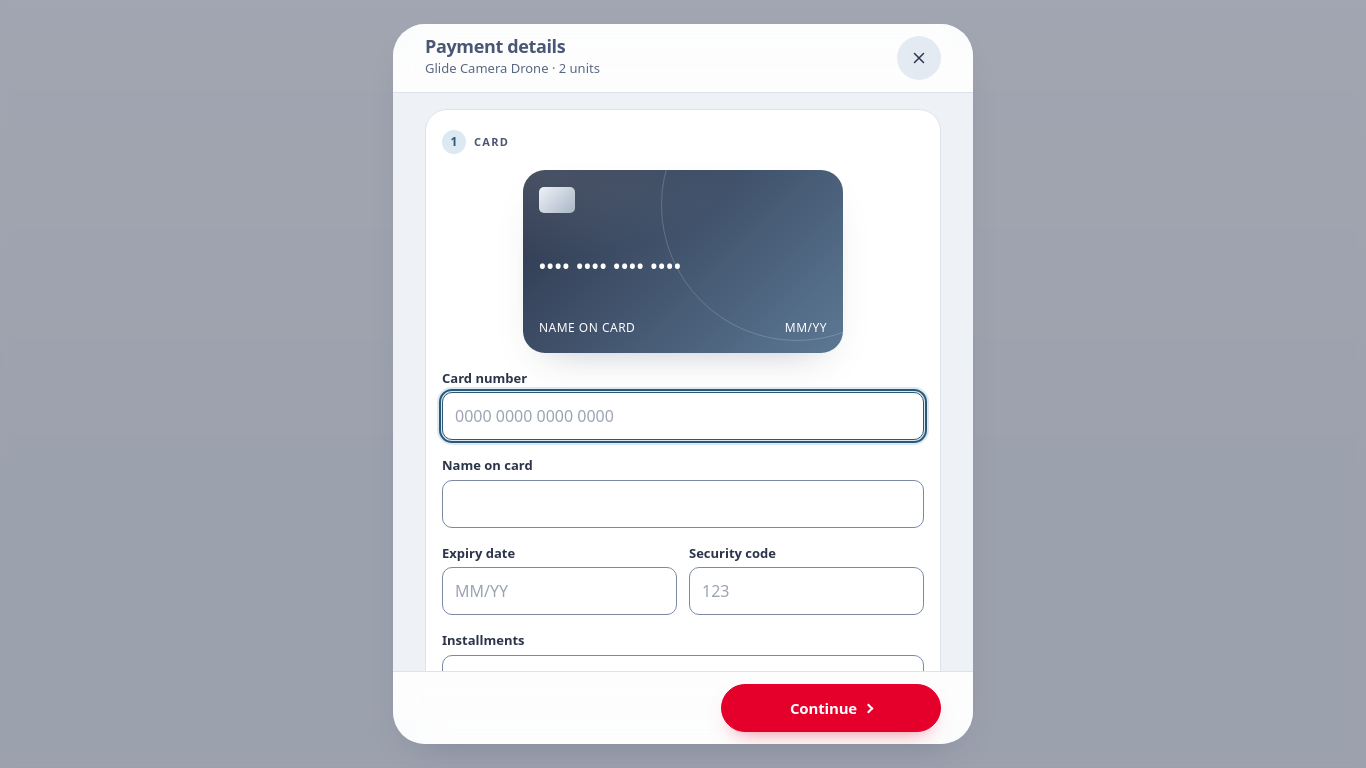
Test case: DetailsModal › validation › explains every missing field and stays on the form
Click the button "Continue" at [831, 708], box [721, 684, 941, 732]
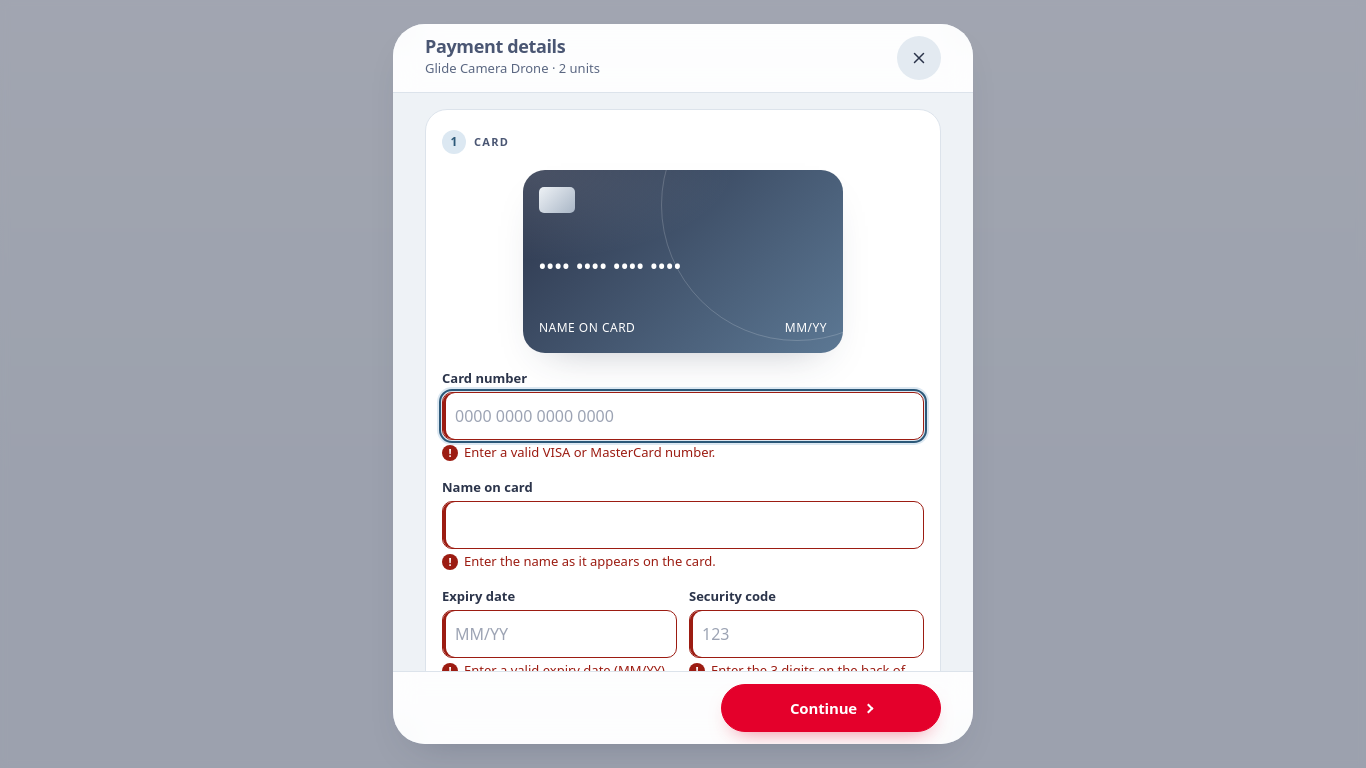
Now the text "Enter a valid VISA or MasterCard number." is shown, box [464, 443, 715, 461]
